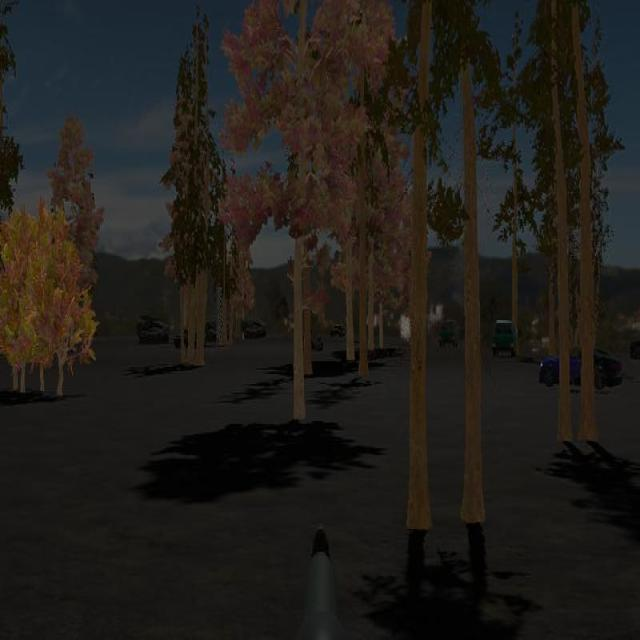car: (538, 346, 624, 391), (492, 319, 517, 359), (438, 319, 462, 348)
